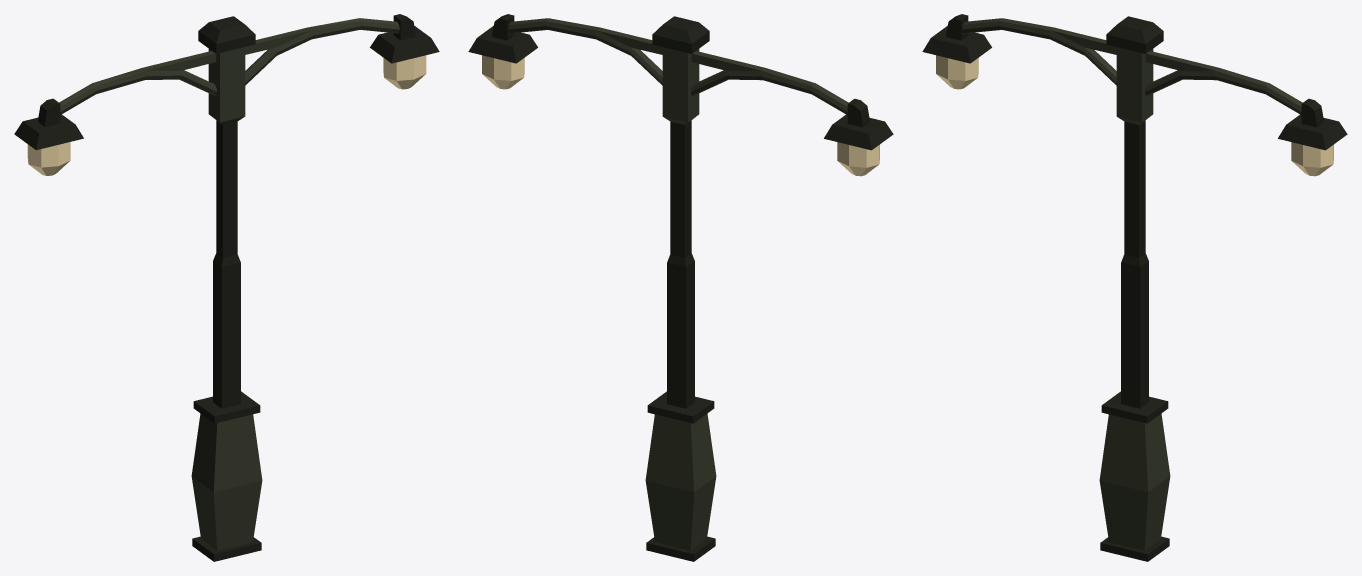
File: StreetLamp_1.FBX
3 views of the same model, side by side, from view 1: azimuth 30°, elevation 25°; view 2: azimuth 150°, elevation 25°; view 3: azimuth 330°, elevation 25° (orthographic).
Visible parts, largest first — view 1: Box002; view 2: Box002; view 3: Box002.
Boxes of the visible parts, left/top/right/bottom form: Box002: left=14, top=14, right=439, bottom=561; Box002: left=468, top=14, right=893, bottom=561; Box002: left=922, top=14, right=1347, bottom=561.
Bounding box in the file's own units: 406 × 505 × 38.69.
